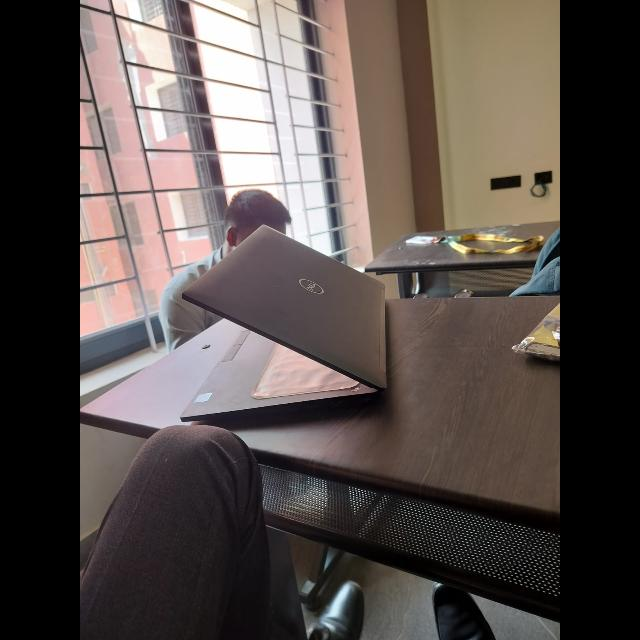laptop: (138, 236, 424, 419)
